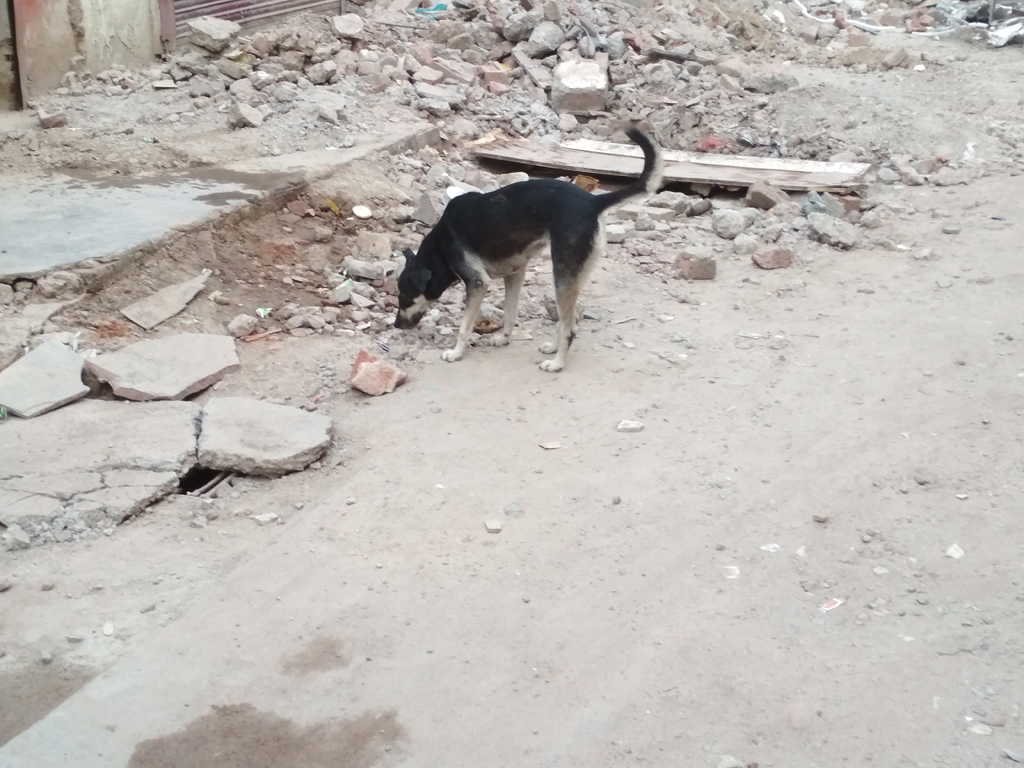dog: (394, 129, 664, 373)
